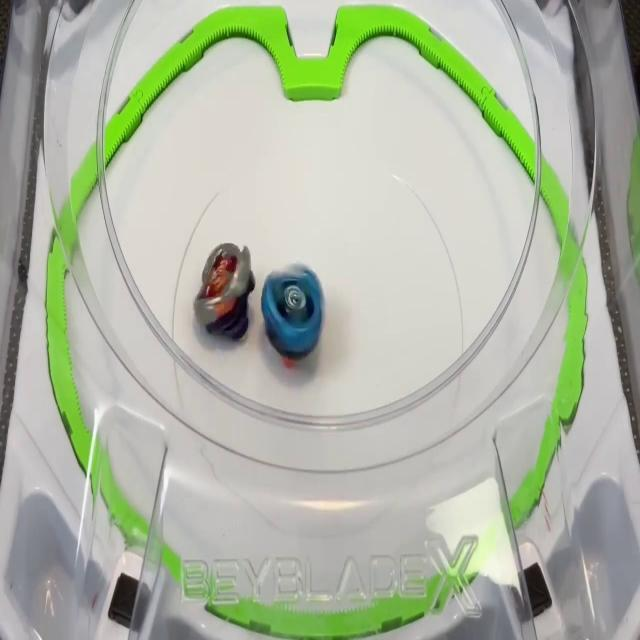Beyblade: (260, 264, 323, 364), (195, 242, 255, 340)
